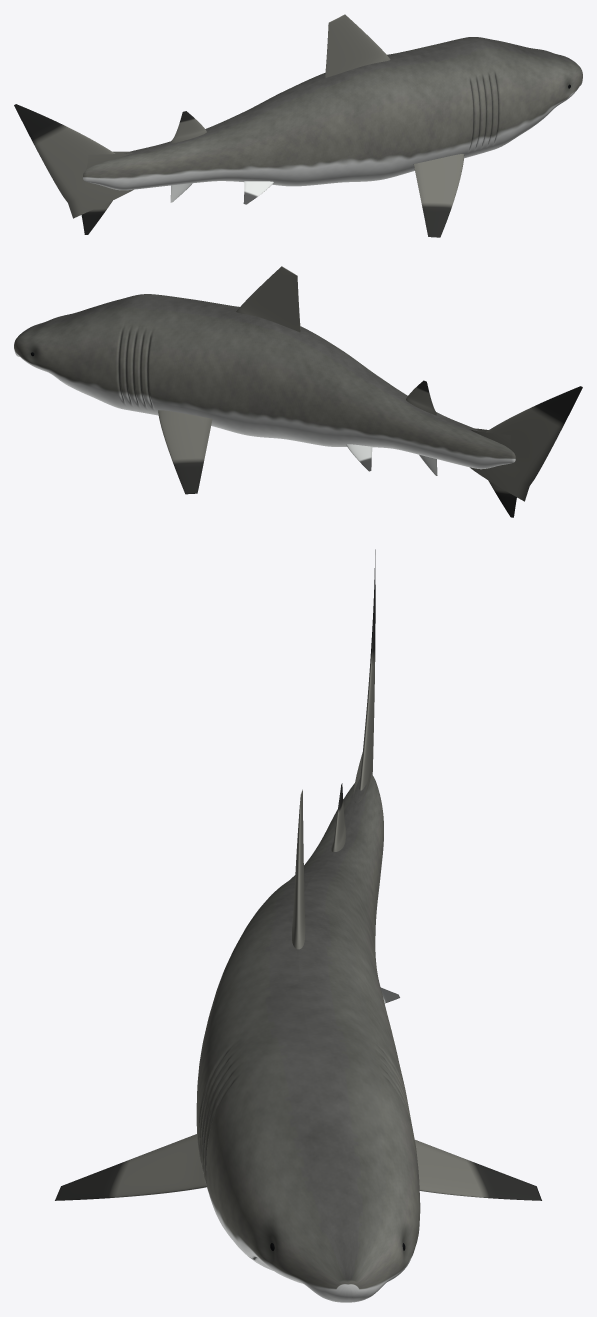
Rendered from grey_reef_shark.glb.
The picture shows the model from 3 angles, top to bottom: view 1: azimuth 30°, elevation 25°; view 2: azimuth 150°, elevation 25°; view 3: azimuth 270°, elevation 25°; orthographic projection. The views are drawn at different scales.
Visible parts, largest first — view 1: grey_reef_shark_Body, grey_reef_shark_Fins; view 2: grey_reef_shark_Body, grey_reef_shark_Fins; view 3: grey_reef_shark_Body, grey_reef_shark_Fins.
Boxes of the visible parts, bbox=[...] form: grey_reef_shark_Body: bbox=[83, 37, 582, 190]; grey_reef_shark_Fins: bbox=[14, 14, 464, 237]; grey_reef_shark_Body: bbox=[14, 294, 515, 469]; grey_reef_shark_Fins: bbox=[158, 266, 582, 517]; grey_reef_shark_Body: bbox=[196, 774, 420, 1302]; grey_reef_shark_Fins: bbox=[55, 549, 541, 1200].
Size of the model in its own units: 1.8 by 0.5738 by 0.6791.
Materials: 3 (1 with a texture image).
